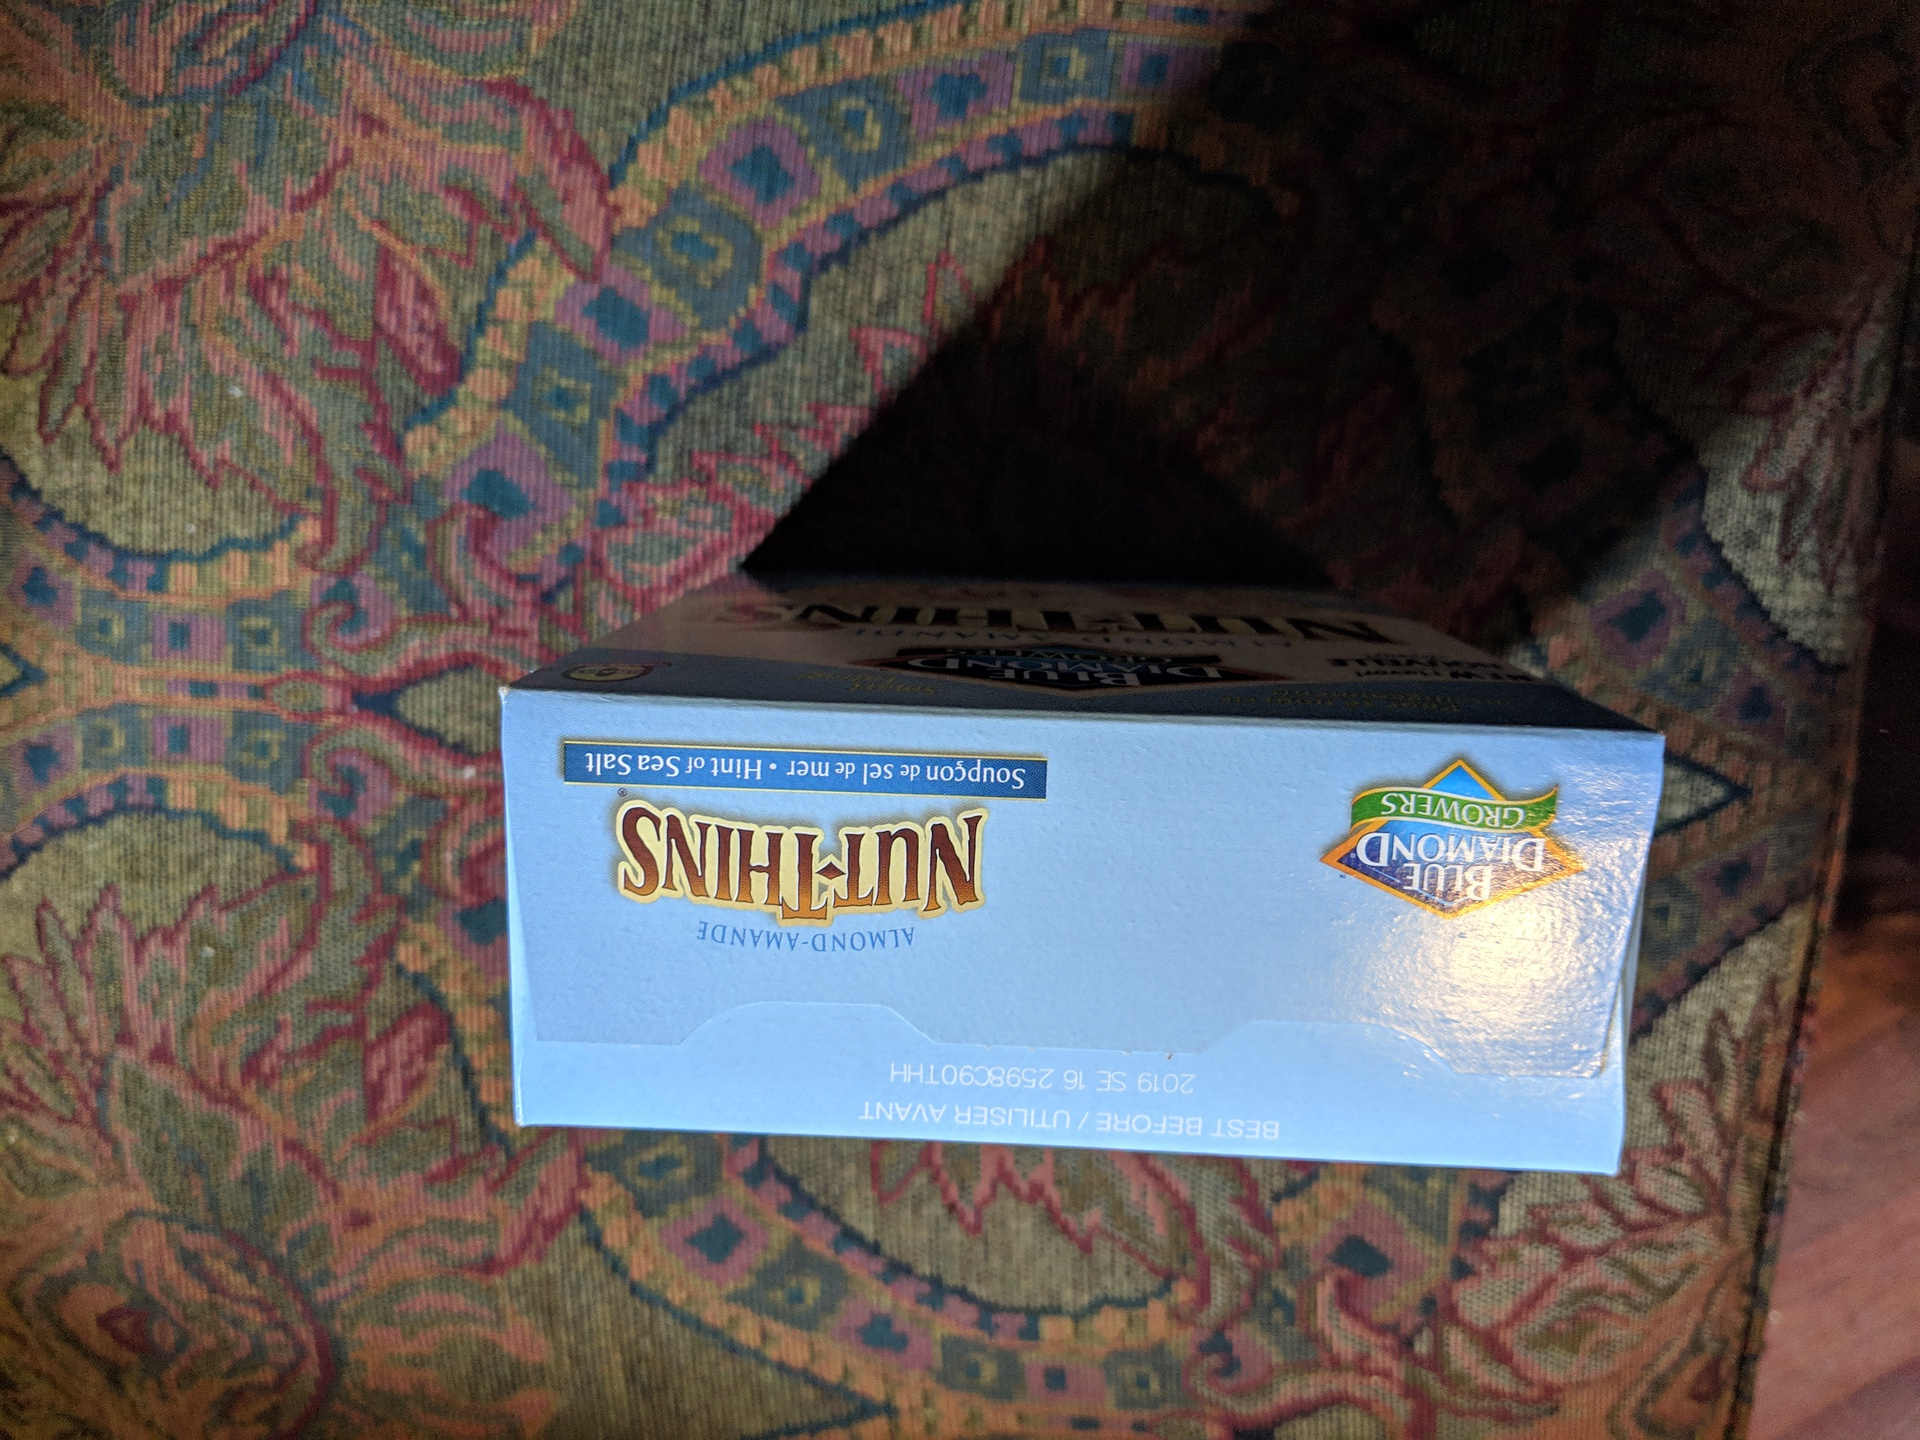blue_diamond_nut_thins_almond_seasalt: (506, 579, 1633, 1177)
